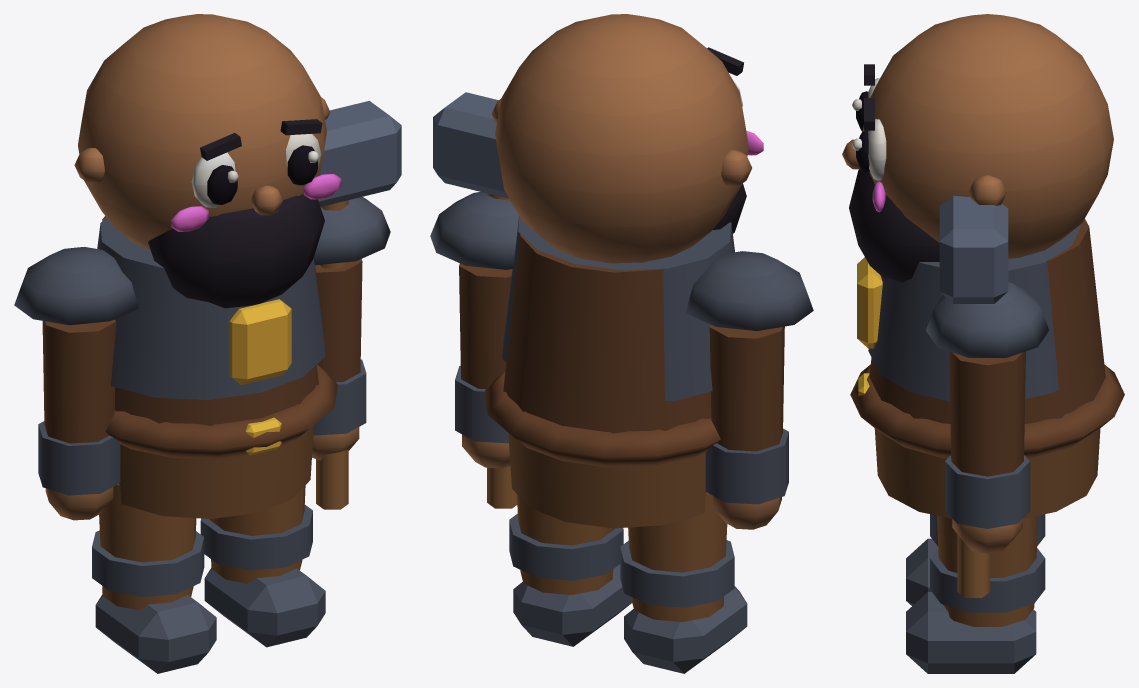
Rendered from hero_korin.glb.
The picture shows the model from 3 angles, left to right: view 1: azimuth 30°, elevation 25°; view 2: azimuth 150°, elevation 25°; view 3: azimuth 270°, elevation 25°; orthographic projection.
Visible parts, largest first — view 1: body_t0_palette, arml_t0_palette, armr_t0_palette, legl_t0_palette, legr_t0_palette; view 2: body_t0_palette, arml_t0_palette, armr_t0_palette, legl_t0_palette, legr_t0_palette; view 3: body_t0_palette, armr_t0_palette, legr_t0_palette, legl_t0_palette.
Part boxes in pixels (<box>): body_t0_palette: <box>74,14,341,518</box>; arml_t0_palette: <box>14,247,138,520</box>; armr_t0_palette: <box>312,100,401,509</box>; legl_t0_palette: <box>92,484,216,673</box>; legr_t0_palette: <box>200,485,325,647</box>; body_t0_palette: <box>484,14,763,528</box>; arml_t0_palette: <box>686,251,813,529</box>; armr_t0_palette: <box>430,92,518,508</box>; legl_t0_palette: <box>620,492,747,673</box>; legr_t0_palette: <box>509,494,632,646</box>; body_t0_palette: <box>842,14,1124,518</box>; armr_t0_palette: <box>926,195,1049,597</box>; legr_t0_palette: <box>906,515,1045,673</box>; legl_t0_palette: <box>906,514,1045,605</box>.
Size of the model in its own units: 0.3051 by 0.492 by 0.206.
